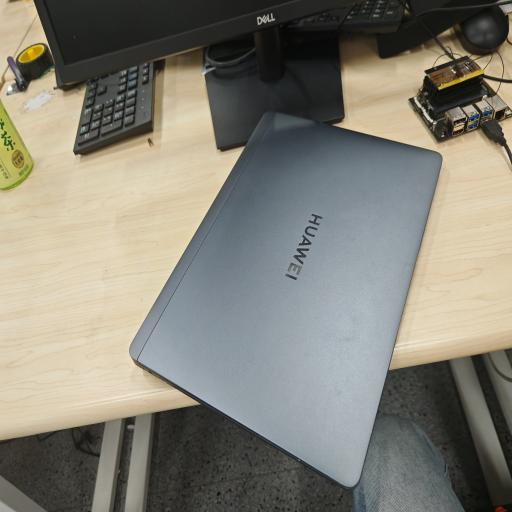laptop: (130, 112, 441, 488)
mouse: (460, 6, 508, 51), (475, 52, 476, 52)
